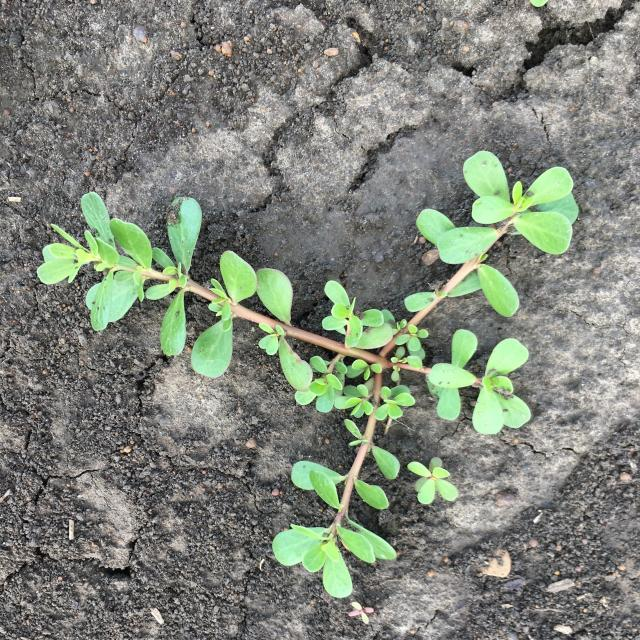Purslane: (38, 150, 580, 598)
